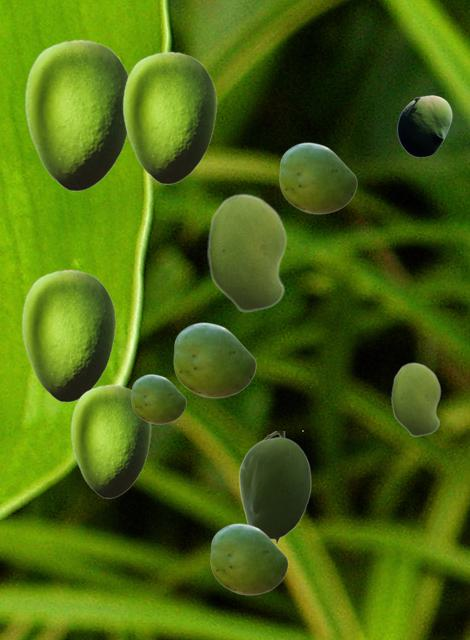green_mango: (24, 39, 129, 190), (21, 269, 115, 401), (122, 51, 216, 183), (207, 193, 286, 312), (70, 384, 150, 497), (238, 431, 310, 544), (173, 322, 255, 397), (210, 523, 287, 594), (279, 142, 356, 213), (391, 362, 440, 436), (397, 95, 451, 156), (131, 374, 185, 423)
